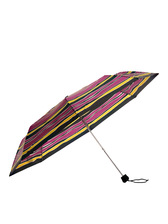other: (3, 67, 165, 189)
